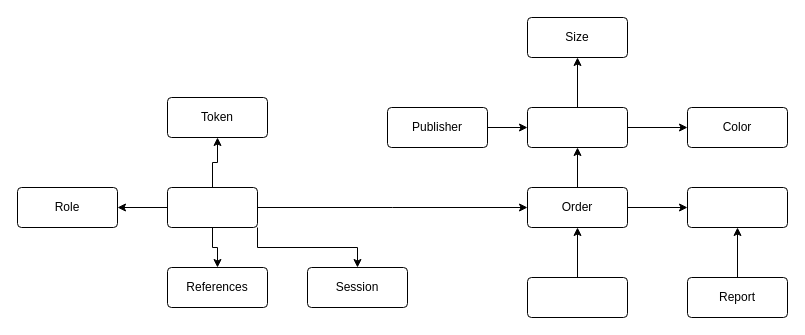
Some shapes in this 805 by 335 pixel diagram are drawn without their labels. Each missing label, with the centre of its shape:
Cart: pixel 577 297
Order Detail: pixel 737 207
Product: pixel 577 127
User: pixel 212 207
